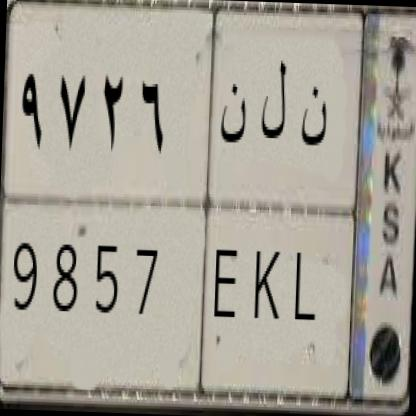english: (1, 191, 364, 401)
